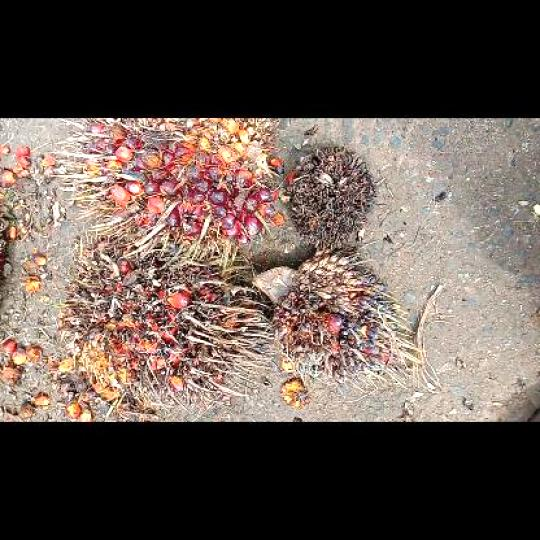masak: (50, 118, 280, 261)
terlalu masak: (54, 234, 273, 407)
